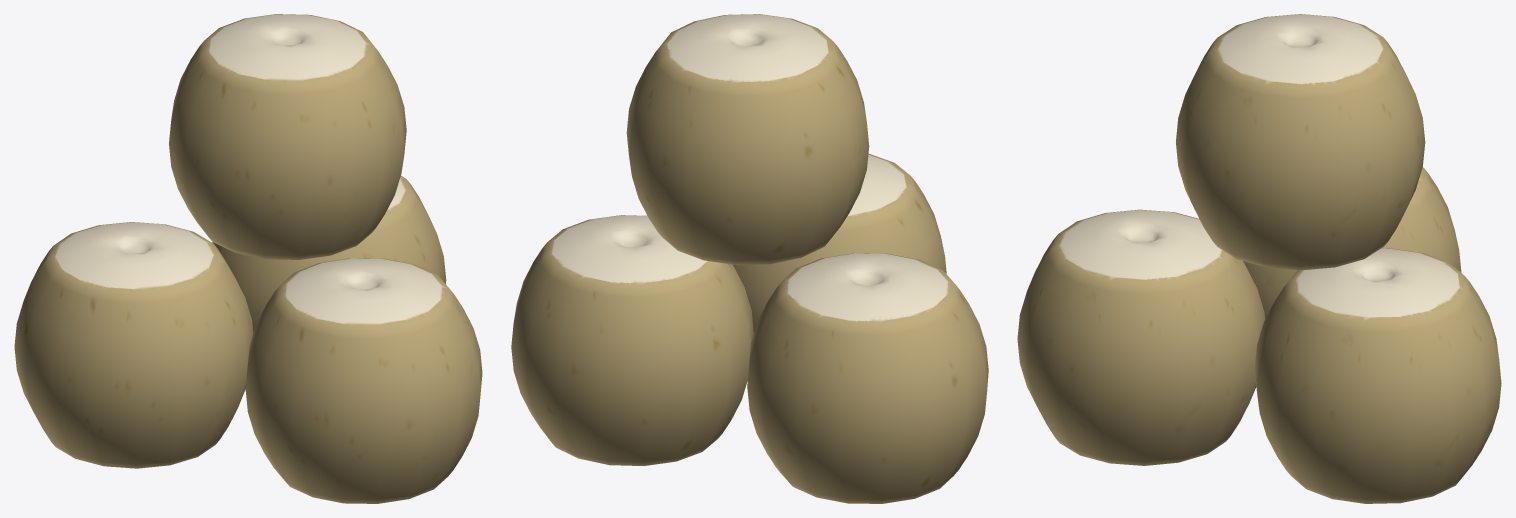
The model's file is pear.fbx.
The picture shows the model from 3 angles, left to right: view 1: azimuth 30°, elevation 25°; view 2: azimuth 150°, elevation 25°; view 3: azimuth 270°, elevation 25°; orthographic projection. The views are drawn at different scales.
Visible parts, largest first — view 1: Sphere.008, Sphere.004, Sphere.006, Sphere.005; view 2: Sphere.006, Sphere.008, Sphere.005, Sphere.004; view 3: Sphere.008, Sphere.005, Sphere.004, Sphere.006.
Part boxes in pixels (x1=…): Sphere.008: x1=169, y1=14, x2=406, y2=259; Sphere.004: x1=245, y1=258, x2=482, y2=503; Sphere.006: x1=14, y1=222, x2=253, y2=468; Sphere.005: x1=212, y1=175, x2=446, y2=332; Sphere.006: x1=747, y1=253, x2=988, y2=503; Sphere.008: x1=626, y1=14, x2=869, y2=264; Sphere.005: x1=511, y1=215, x2=753, y2=465; Sphere.004: x1=732, y1=154, x2=946, y2=332; Sphere.008: x1=1176, y1=14, x2=1425, y2=270; Sphere.005: x1=1254, y1=248, x2=1501, y2=503; Sphere.004: x1=1017, y1=209, x2=1264, y2=465; Sphere.006: x1=1243, y1=167, x2=1461, y2=318.
Size of the model in its own units: 15.05 by 13.4 by 14.55.
